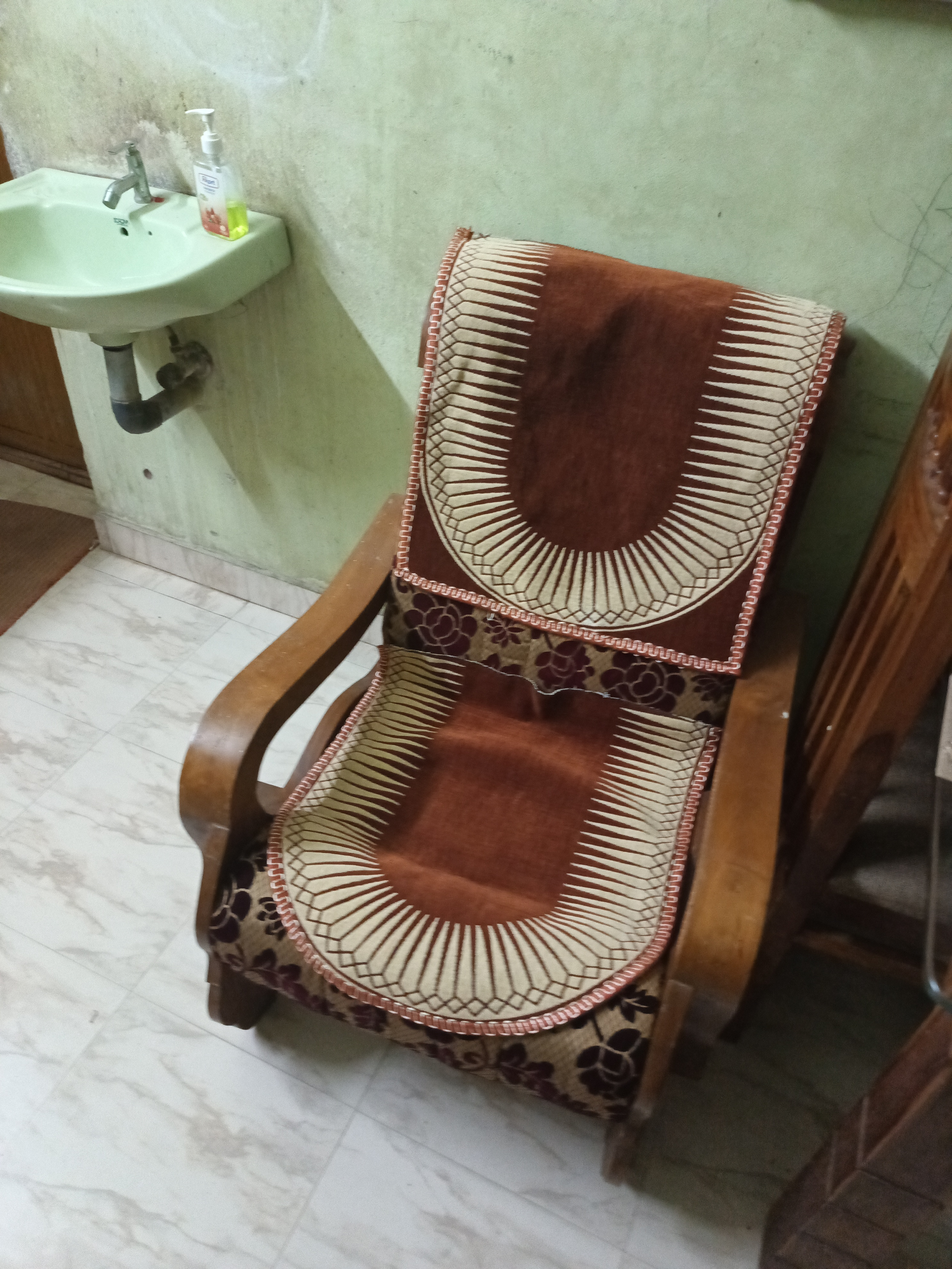sofa: (179, 226, 854, 1179)
